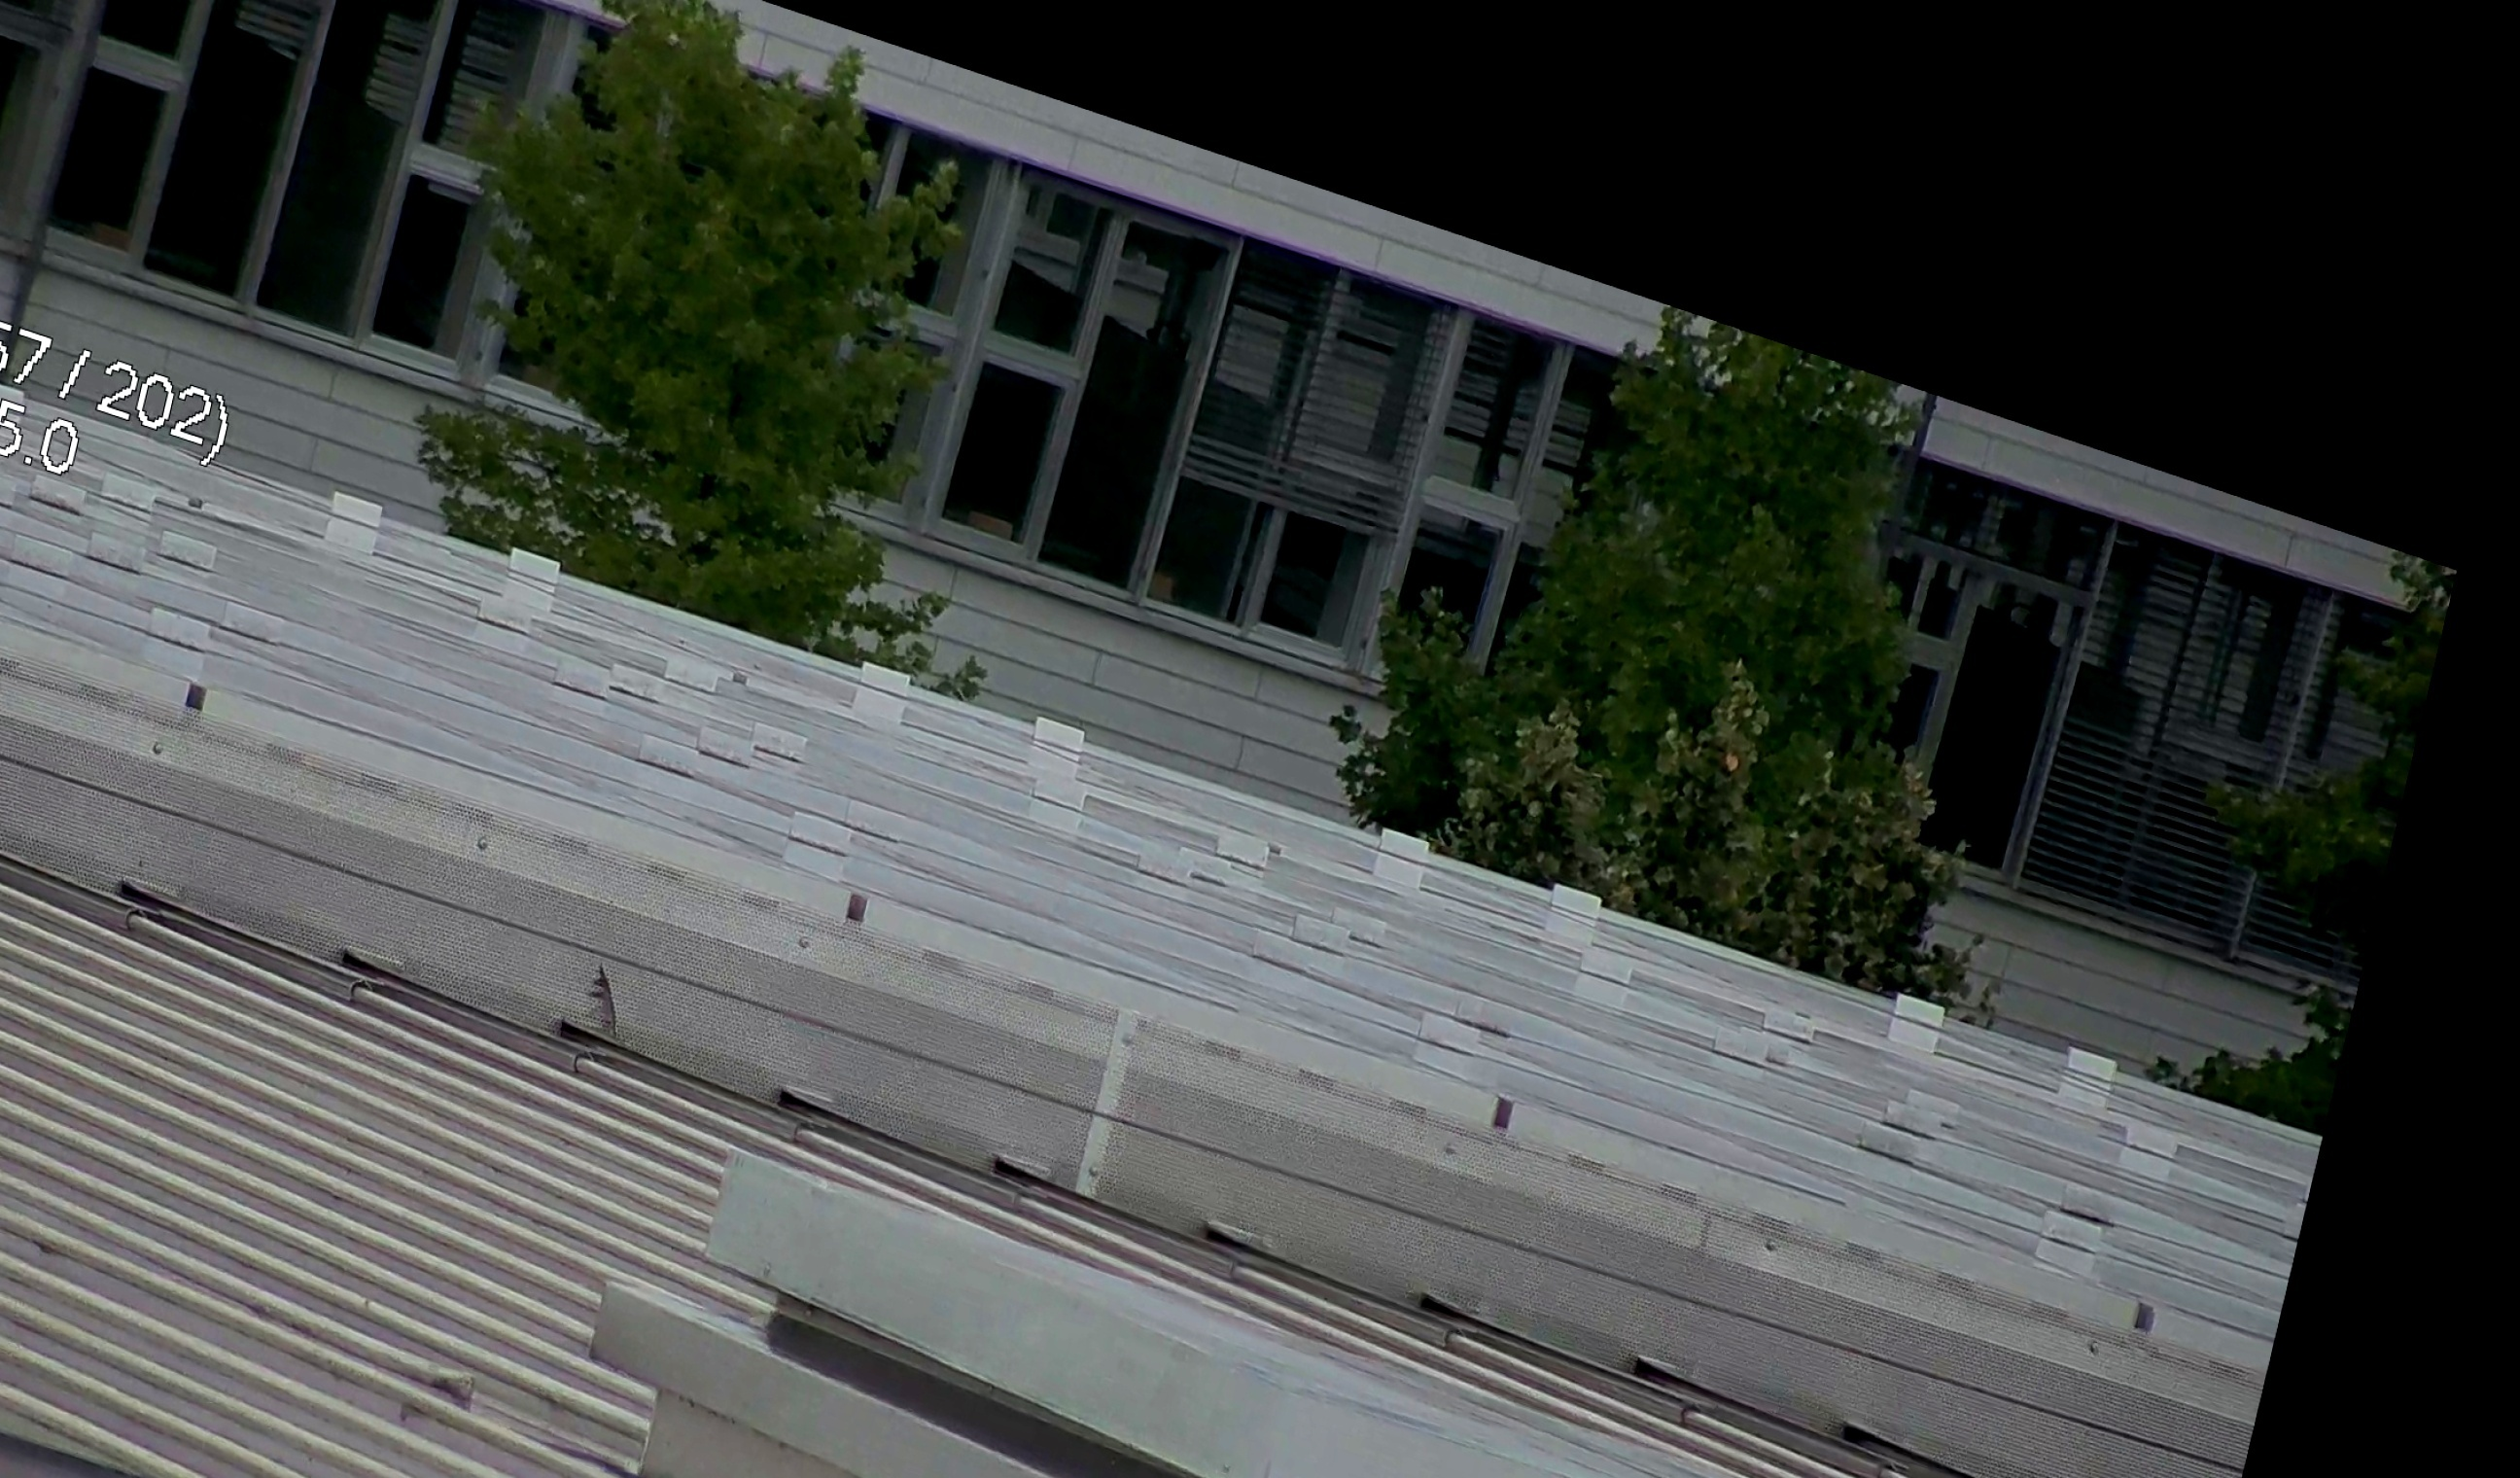Other: (550, 934, 638, 1072)
